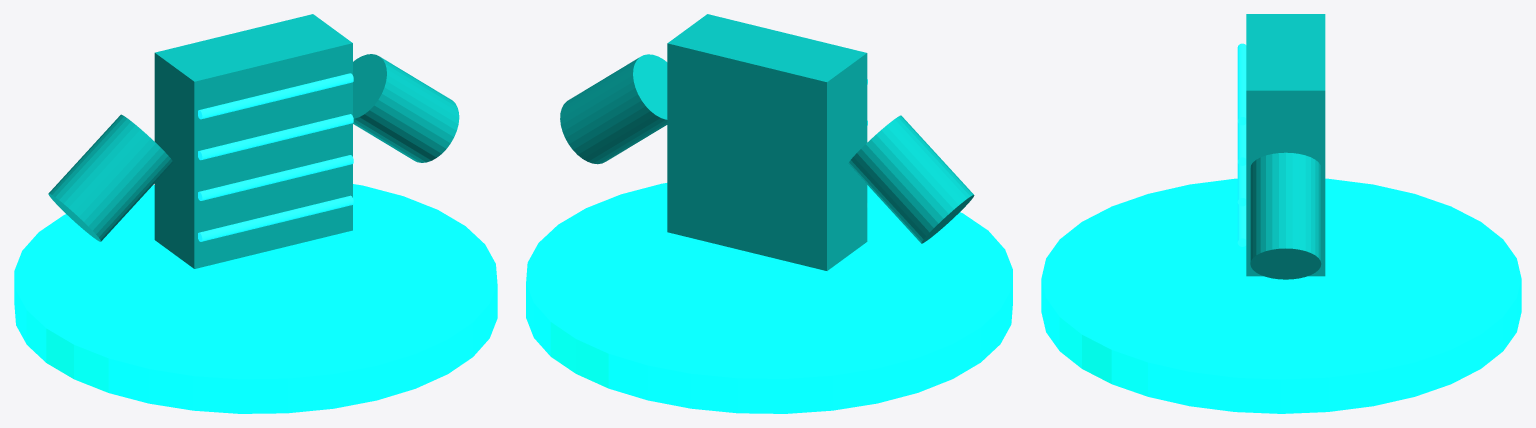
File: fashion_puffer_jacket.glb
3 views of the same model, side by side, from view 1: azimuth 30°, elevation 25°; view 2: azimuth 150°, elevation 25°; view 3: azimuth 270°, elevation 25° (orthographic).
Visible parts, largest first — view 1: 06_09_Popular_Fashion_Puffer_Jacket_ROOT_base, 06_09_Popular_Fashion_Puffer_Jacket_part_01, 06_09_Popular_Fashion_Puffer_Jacket_part_02, 06_09_Popular_Fashion_Puffer_Jacket_part_03, 06_09_Popular_Fashion_Puffer_Jacket_part_06, 06_09_Popular_Fashion_Puffer_Jacket_part_07, 06_09_Popular_Fashion_Puffer_Jacket_part_05, 06_09_Popular_Fashion_Puffer_Jacket_part_04; view 2: 06_09_Popular_Fashion_Puffer_Jacket_ROOT_base, 06_09_Popular_Fashion_Puffer_Jacket_part_01, 06_09_Popular_Fashion_Puffer_Jacket_part_02, 06_09_Popular_Fashion_Puffer_Jacket_part_03; view 3: 06_09_Popular_Fashion_Puffer_Jacket_ROOT_base, 06_09_Popular_Fashion_Puffer_Jacket_part_01, 06_09_Popular_Fashion_Puffer_Jacket_part_03, 06_09_Popular_Fashion_Puffer_Jacket_part_07.
Part boxes in pixels (x1,y1,x2,y2): 06_09_Popular_Fashion_Puffer_Jacket_ROOT_base: [14, 184, 497, 413]; 06_09_Popular_Fashion_Puffer_Jacket_part_01: [154, 14, 352, 268]; 06_09_Popular_Fashion_Puffer_Jacket_part_02: [48, 114, 173, 241]; 06_09_Popular_Fashion_Puffer_Jacket_part_03: [353, 54, 459, 162]; 06_09_Popular_Fashion_Puffer_Jacket_part_06: [198, 114, 353, 160]; 06_09_Popular_Fashion_Puffer_Jacket_part_07: [198, 73, 353, 119]; 06_09_Popular_Fashion_Puffer_Jacket_part_05: [198, 155, 353, 200]; 06_09_Popular_Fashion_Puffer_Jacket_part_04: [198, 195, 353, 241]; 06_09_Popular_Fashion_Puffer_Jacket_ROOT_base: [526, 183, 1012, 413]; 06_09_Popular_Fashion_Puffer_Jacket_part_01: [667, 14, 867, 270]; 06_09_Popular_Fashion_Puffer_Jacket_part_02: [848, 115, 974, 243]; 06_09_Popular_Fashion_Puffer_Jacket_part_03: [560, 54, 667, 164]; 06_09_Popular_Fashion_Puffer_Jacket_ROOT_base: [1041, 178, 1521, 413]; 06_09_Popular_Fashion_Puffer_Jacket_part_01: [1246, 14, 1325, 276]; 06_09_Popular_Fashion_Puffer_Jacket_part_03: [1250, 152, 1321, 279]; 06_09_Popular_Fashion_Puffer_Jacket_part_07: [1237, 43, 1246, 125].
Bounding box in the file's own units: 0.76 × 0.4546 × 0.76.
